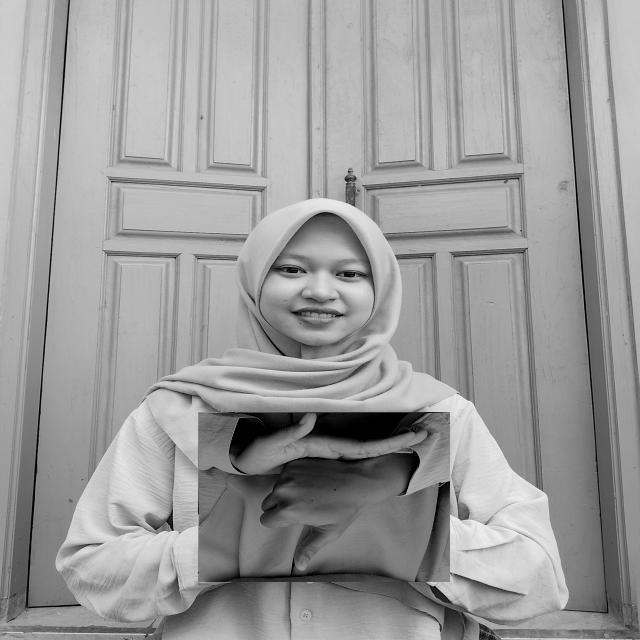cantik: (198, 412, 450, 582)
